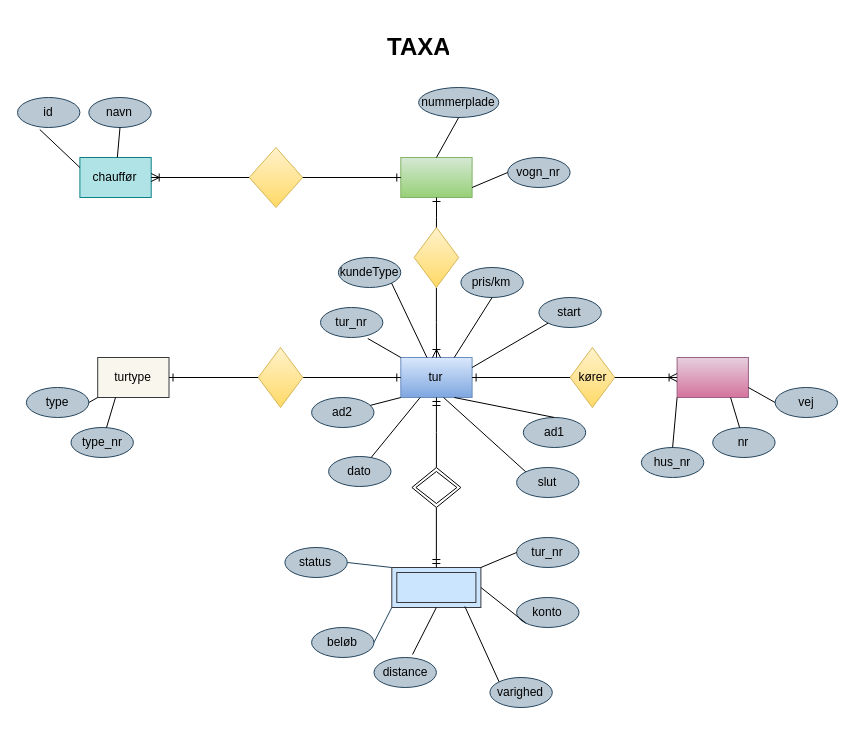
Image size: 855x744. Some labels were removed from this diagram. The shapes that lost their labels are listed below. From the top down, each one's centre as x and y in pixels, then its label:
At point (275, 177): "ansvarlig".
At point (436, 177): "vogn".
At point (436, 257): "tager".
At point (280, 377): "hører til".
At point (712, 377): "addresse".
At point (436, 487): "tjener".
At point (436, 587): "betaling".
